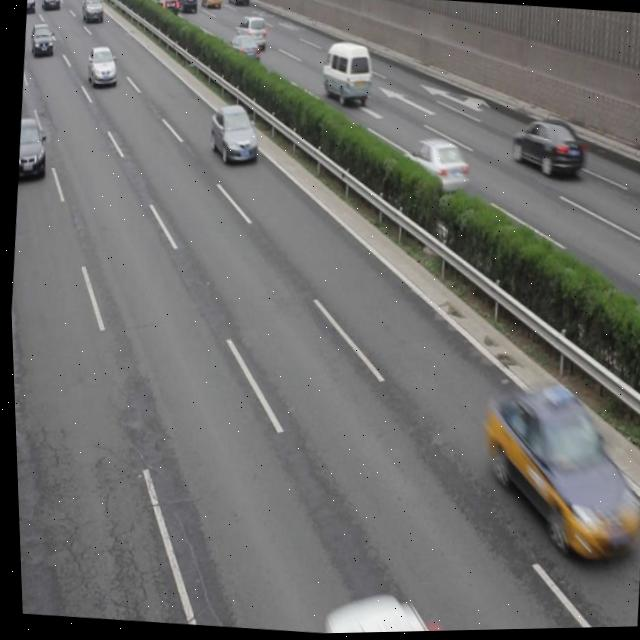car: (472, 381, 631, 562), (507, 115, 584, 184), (395, 136, 469, 204), (205, 101, 259, 170), (15, 114, 49, 181), (84, 43, 119, 91), (225, 33, 261, 73)
truck: (316, 40, 374, 108)
